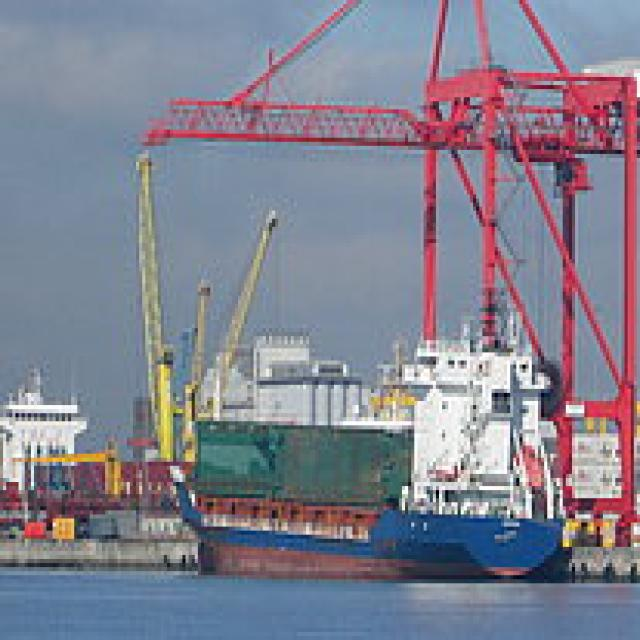Cargo: (158, 304, 560, 571), (0, 356, 87, 498)
